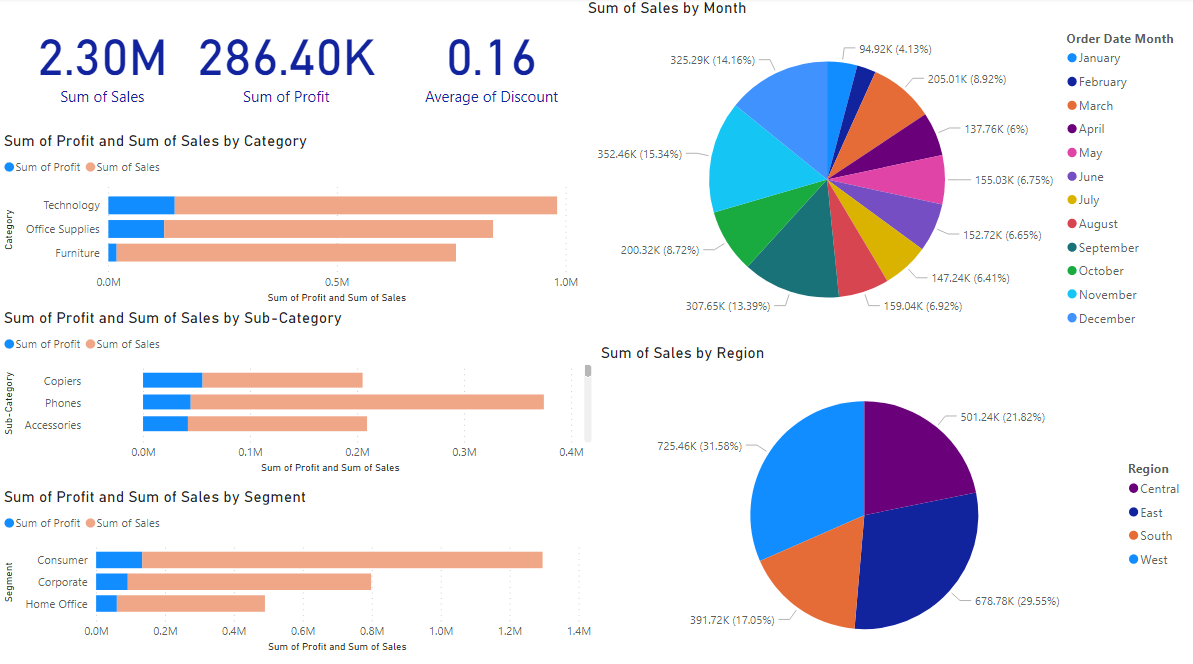

This screenshot's page, from the dashboard's own definition file:
{"tool":"powerbi","page":{"name":"Page 1","canvas":[1280,720],"ordinal":0},"visuals":[{"type":"card","fields":{"Values":["Sum(Sample - Superstore.Sales)"]},"box":[9.8,0,201.7,133],"z":0},{"type":"card","fields":{"Values":["Sum(Sample - Superstore.Profit)"]},"box":[198.9,0,217.1,133],"z":1000},{"type":"card","fields":{"Values":["Avg(Sample - Superstore.Discount)"]},"box":[415.9,0,224.1,133],"z":2000},{"type":"pieChart","fields":{"Y":["Sum(Sample - Superstore.Profit)","Sum(Sample - Superstore.Sales)"],"Category":["Sample - Superstore.Order Date.Variation.Date Hierarchy.Month"]},"box":[626,0,654,369.7],"z":3000},{"type":"barChart","fields":{"Y":["Sum(Sample - Superstore.Profit)","Sum(Sample - Superstore.Sales)"],"Category":["Sample - Superstore.Category"]},"box":[0,142.8,626,189.1],"z":4000},{"type":"barChart","fields":{"Y":["Sum(Sample - Superstore.Profit)","Sum(Sample - Superstore.Sales)"],"Category":["Sample - Superstore.Sub-Category"]},"box":[0,331.9,640,182.1],"z":5000},{"type":"barChart","fields":{"Category":["Sample - Superstore.Segment"],"Y":["Sum(Sample - Superstore.Profit)","Sum(Sample - Superstore.Sales)"]},"box":[0,524,640,182],"z":6000},{"type":"pieChart","fields":{"Y":["Sum(Sample - Superstore.Sales)"],"Category":["Sample - Superstore.Region","Sample - Superstore.Order Date.Variation.Date Hierarchy.Month"]},"box":[640,369.7,640,350.1],"z":7000}]}

Visuals, with their boxes in screenshot pixels (x1, y1, x2, y2), scaled from the page's 1280x720 canvas onto the 1193x664 screenshot:
card - Sum(Sample - Superstore.Sales): bbox=(9, 0, 197, 123)
card - Sum(Sample - Superstore.Profit): bbox=(185, 0, 388, 123)
card - Avg(Sample - Superstore.Discount): bbox=(388, 0, 596, 123)
pieChart - Sum(Sample - Superstore.Profit) x Sum(Sample - Superstore.Sales): bbox=(583, 0, 1192, 341)
barChart - Sum(Sample - Superstore.Profit) x Sum(Sample - Superstore.Sales): bbox=(0, 132, 583, 306)
barChart - Sum(Sample - Superstore.Profit) x Sum(Sample - Superstore.Sales): bbox=(0, 306, 596, 474)
barChart - Sample - Superstore.Segment x Sum(Sample - Superstore.Profit): bbox=(0, 483, 596, 651)
pieChart - Sum(Sample - Superstore.Sales) x Sample - Superstore.Region: bbox=(596, 341, 1192, 663)
